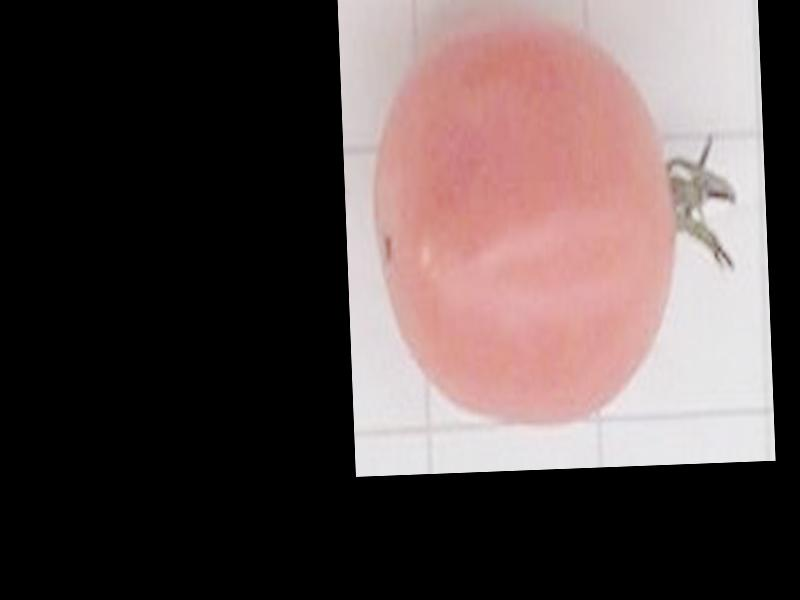Tomato: (365, 10, 681, 430)
